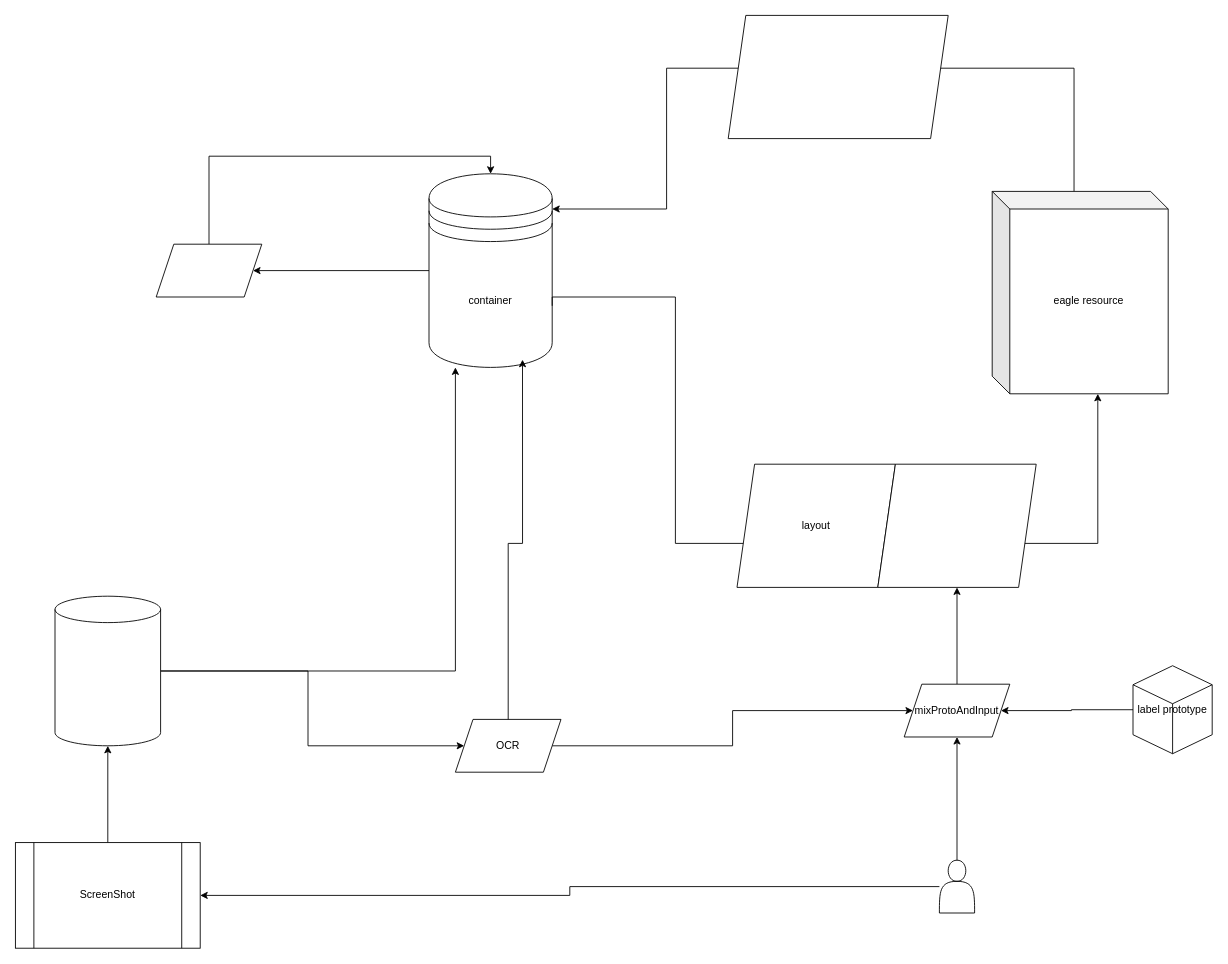
Some shapes in this 1228 by 964 pixel diagram are drawn without their labels. The shapes that lost their labels are listed below. From the top down, each one's centre as x and y in pixels, then its label:
the point at 837,77: appender
the point at 956,525: label
the point at 107,670: cipboard
